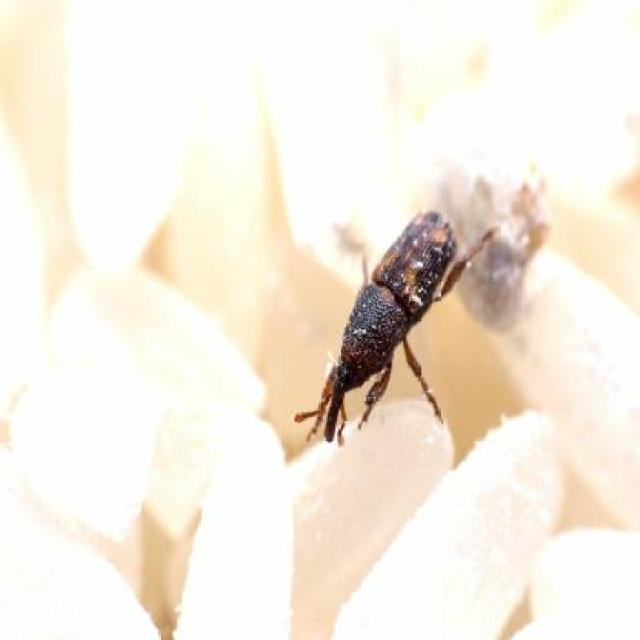rice-bug: (320, 208, 463, 442)
